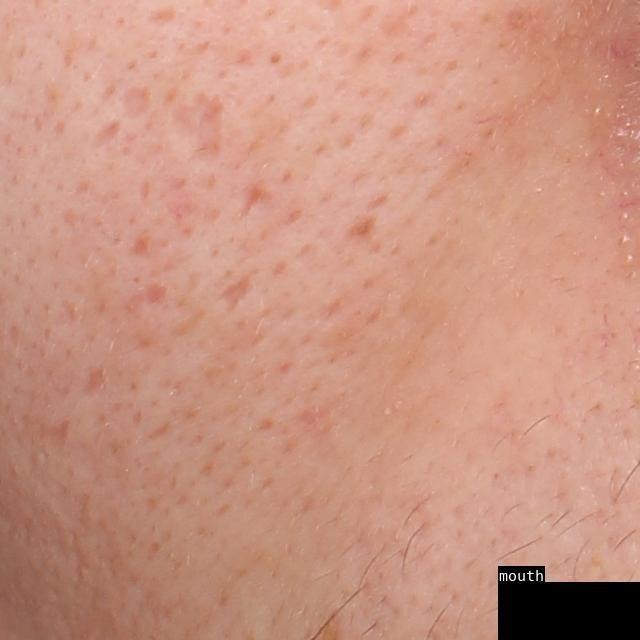atrophic_scar: (173, 91, 227, 160), (112, 86, 154, 126), (238, 179, 273, 220), (143, 0, 194, 27), (89, 118, 127, 151), (220, 275, 255, 309), (77, 365, 106, 399), (124, 229, 152, 260), (145, 284, 166, 306)
comedo: (260, 45, 284, 69)
